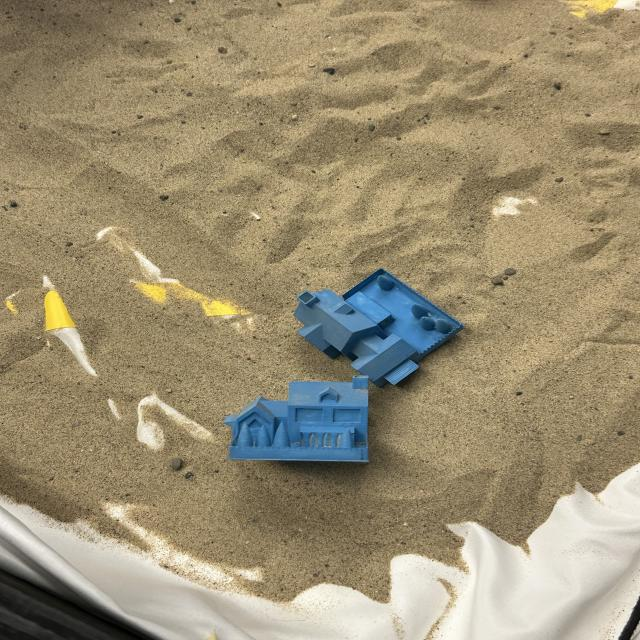house: (292, 267, 464, 388), (221, 374, 372, 464)
